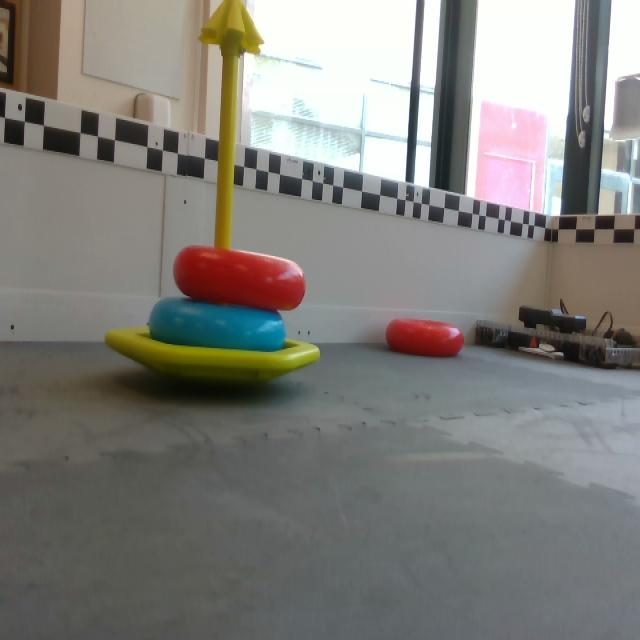Blue-Ring: (147, 299, 288, 352)
Mobile-Goal: (105, 1, 323, 388)
Red-Ring: (173, 245, 307, 312), (385, 319, 466, 357)
Yellow-Stake-Head: (201, 2, 265, 54)
